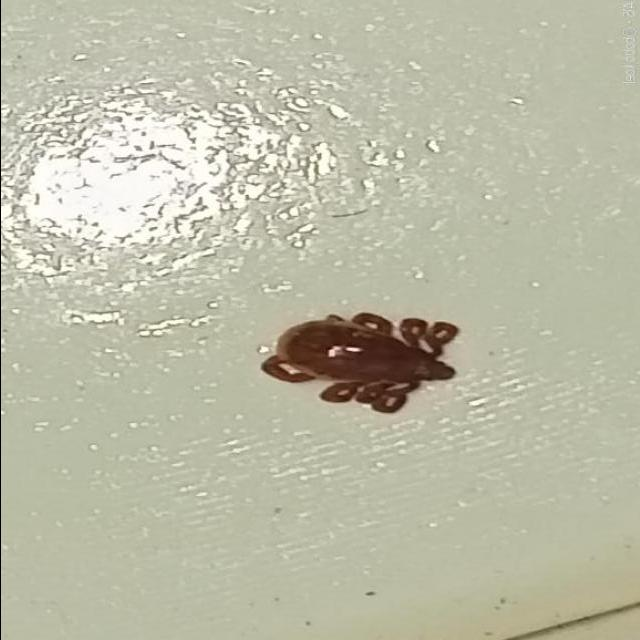Rhipicephalus Sanguineus-M: (262, 312, 459, 414)
